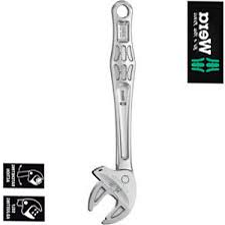Wrench: (87, 4, 151, 225)
